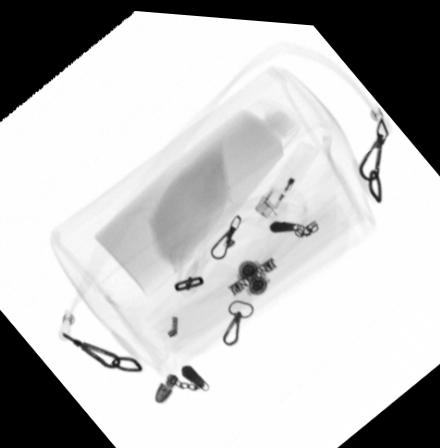Lighter: (255, 133, 321, 216)
